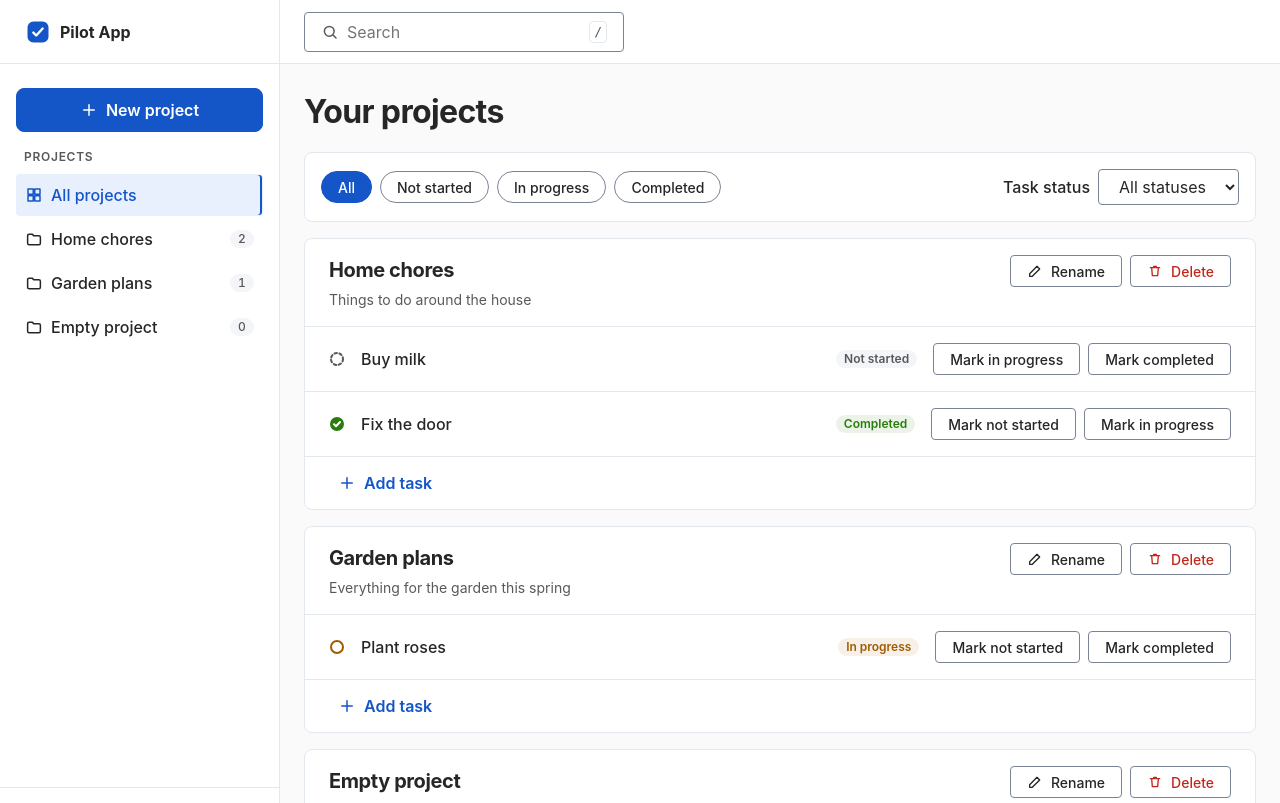
Test case: Dashboard › a name or description outside the limits is not saved and shows the allowed length
Check: the heading "Home chores" is shown, box [329,258,454,282]
Click the button "New project". click: (140, 110)
box: [16,88,263,132]
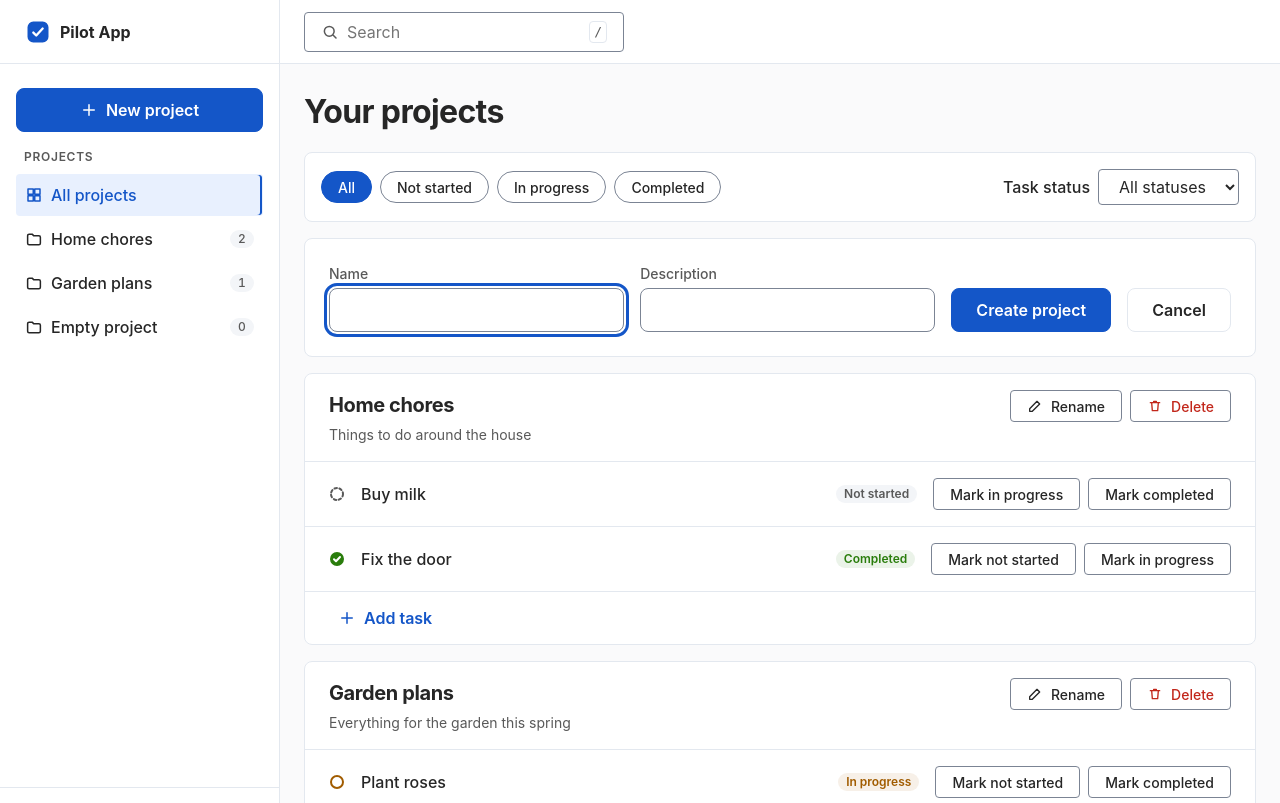
Type "abc" into the field labelled "Name". click: (477, 310)
box: [329,288,624,332]
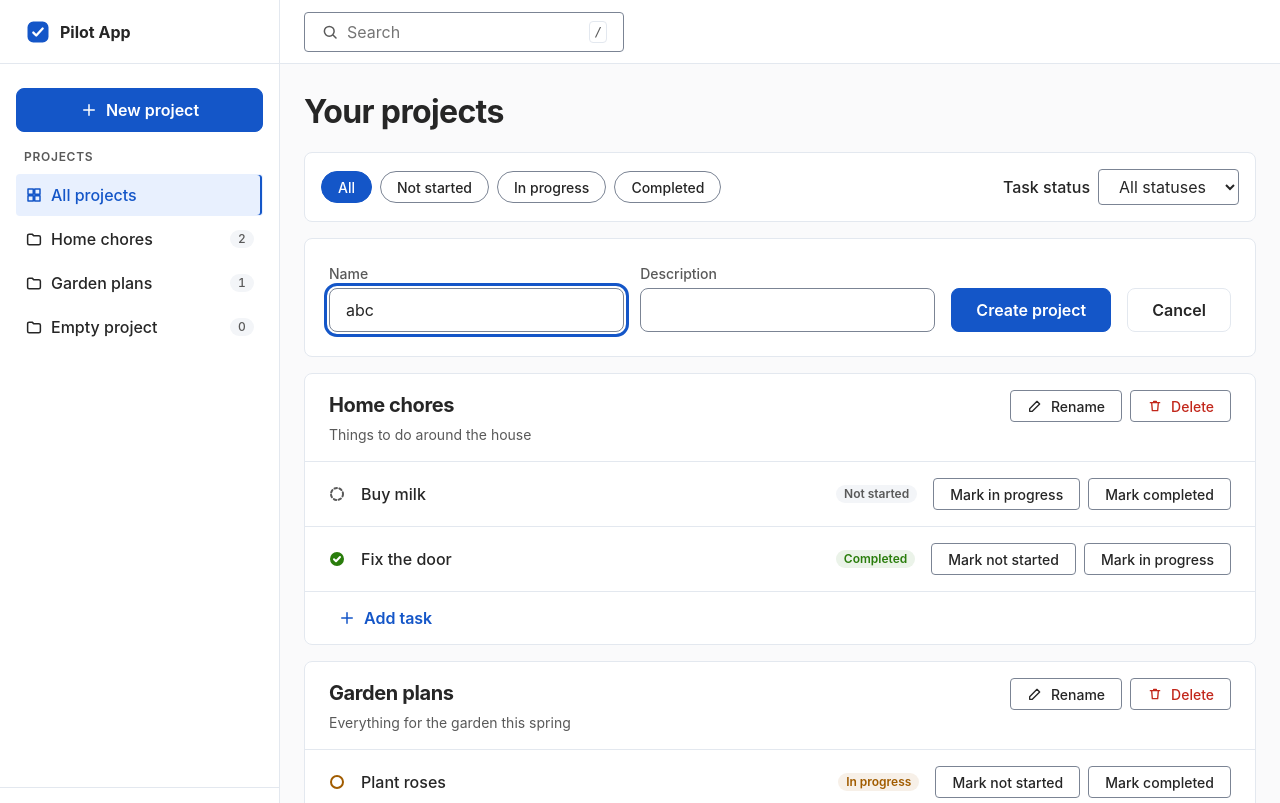
Type "too short" into the field labelled "Description". click: (788, 310)
box: [640,288,935,332]
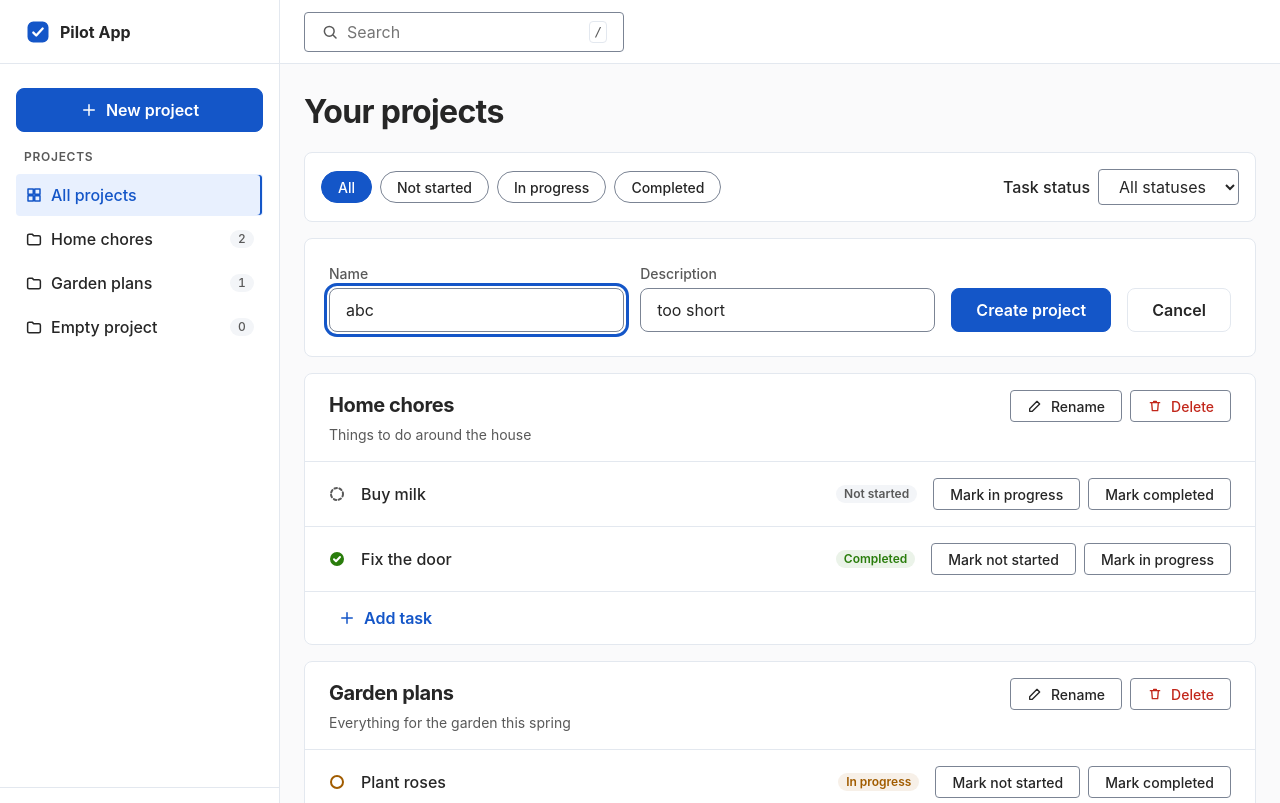
Click the button "Create project". click: (1031, 310)
box: [951,288,1111,332]
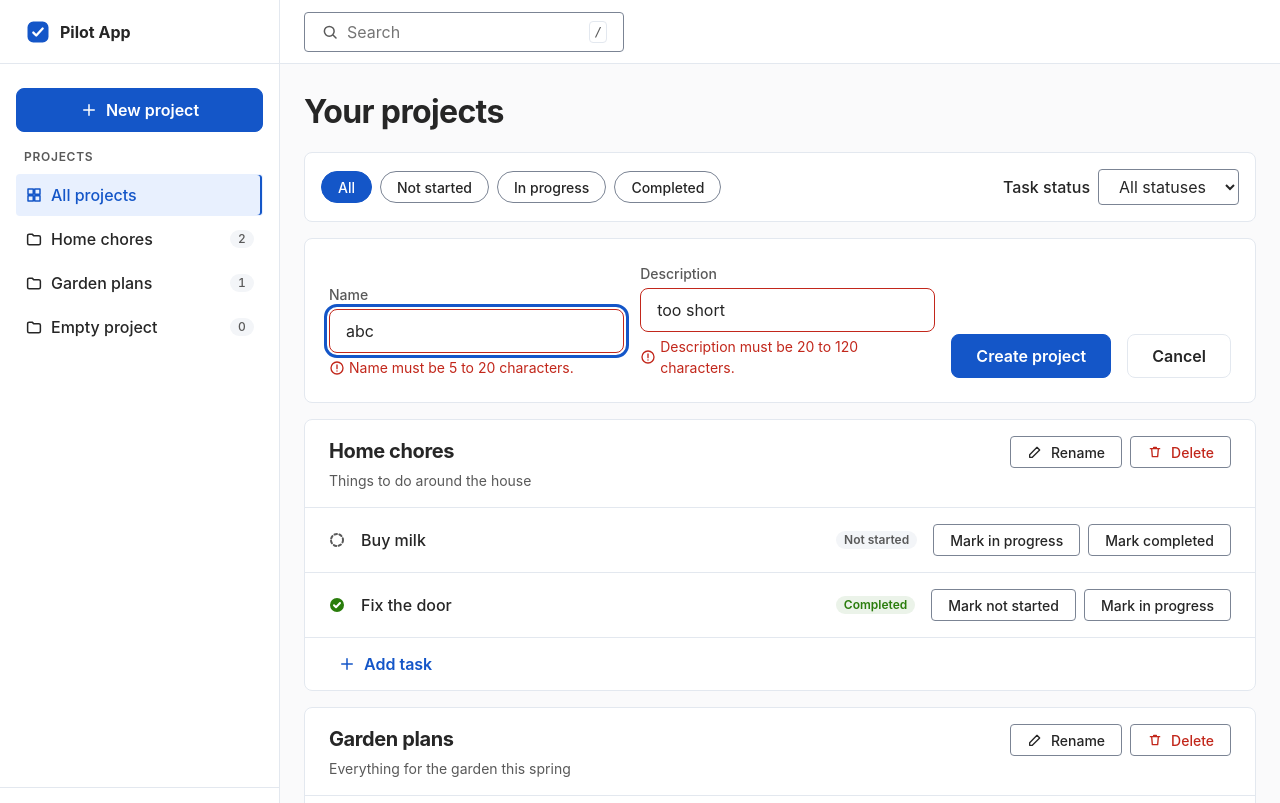
Check: the text "Name must be 5 to 20 characters." is shown, box [329,359,574,376]
Check: the text "Description must be 20 to 120 characters." is shown, box [640,338,858,376]
